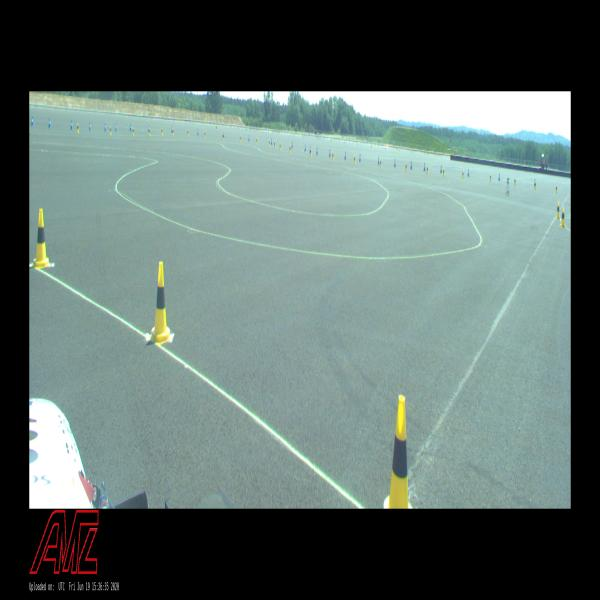blue_cone: (48, 117, 51, 128), (70, 119, 73, 130), (31, 116, 34, 126), (104, 122, 107, 132), (129, 122, 132, 132), (423, 163, 426, 172), (467, 168, 470, 177), (89, 120, 91, 132), (115, 122, 117, 132), (410, 160, 412, 170), (440, 164, 442, 174), (316, 146, 318, 155), (329, 148, 331, 157), (344, 151, 346, 160), (359, 153, 361, 162), (378, 156, 380, 165), (394, 158, 396, 167), (197, 128, 199, 136), (309, 145, 311, 153), (498, 173, 500, 181), (171, 126, 173, 133), (248, 135, 250, 142), (291, 141, 293, 148), (304, 144, 306, 151), (223, 132, 225, 138), (271, 138, 272, 144)
yellow_cone: (383, 393, 413, 509), (149, 262, 174, 343), (32, 208, 50, 269), (560, 206, 566, 228), (555, 201, 560, 219), (109, 125, 112, 136), (426, 164, 429, 175), (555, 183, 558, 193), (353, 154, 356, 164), (379, 158, 382, 168), (77, 122, 79, 134), (462, 169, 464, 180), (490, 172, 492, 183), (309, 150, 312, 157), (534, 180, 536, 190), (132, 126, 134, 136), (405, 162, 407, 172), (442, 167, 444, 177), (148, 127, 150, 136), (289, 144, 291, 153), (161, 127, 163, 135), (172, 128, 174, 136), (187, 129, 189, 137), (204, 130, 206, 138), (279, 142, 281, 150), (332, 152, 334, 160), (514, 178, 516, 186), (222, 133, 224, 140), (256, 136, 257, 144), (269, 139, 270, 147), (274, 140, 275, 148), (240, 135, 241, 142)
